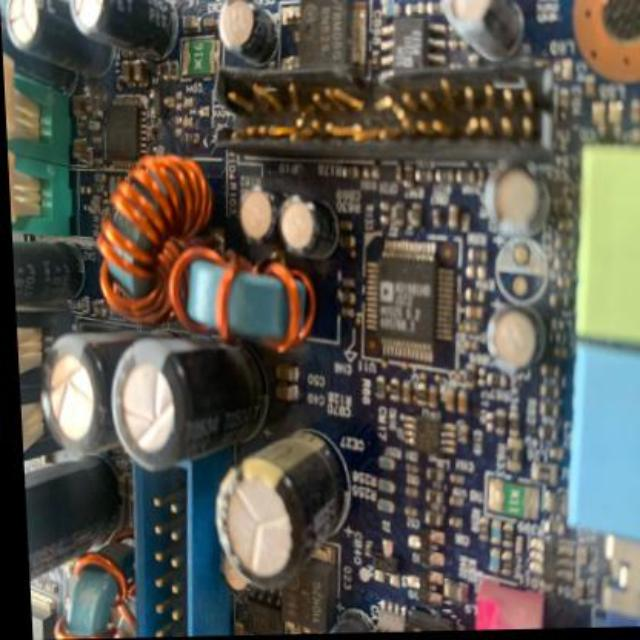PCB: (2, 0, 640, 638)
